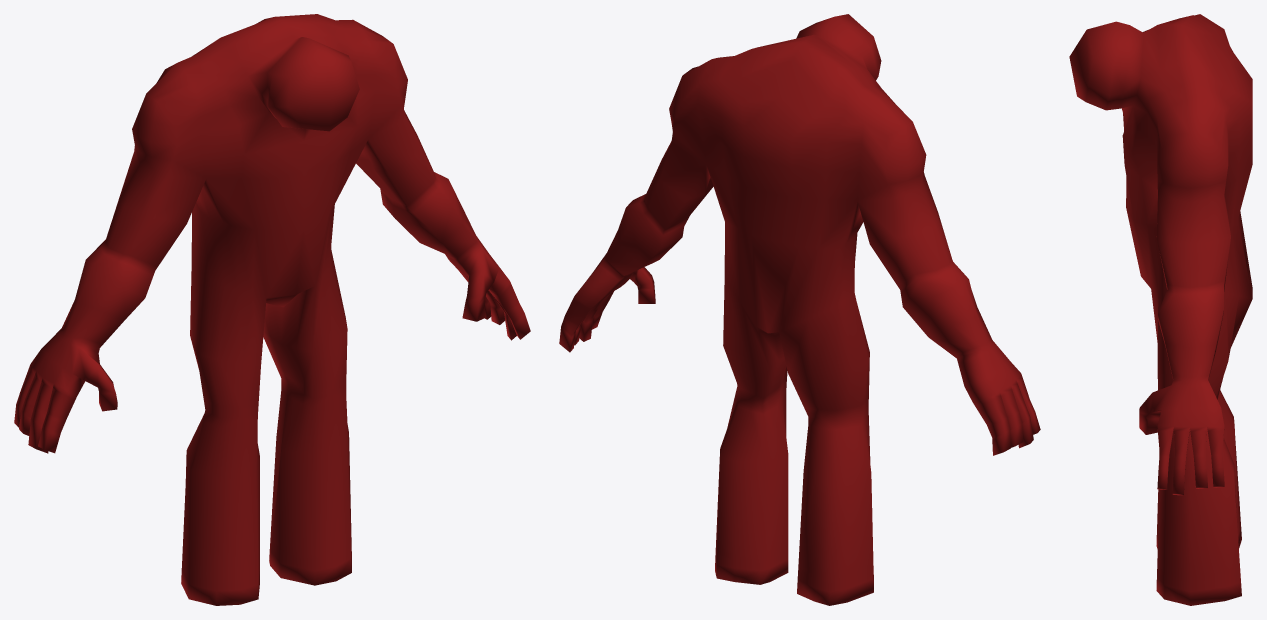
Rendered from Giant_BaseMesh.obj.
3 renders of one model, left to right at view 1: azimuth 30°, elevation 25°; view 2: azimuth 150°, elevation 25°; view 3: azimuth 270°, elevation 25°, orthographic. The views are drawn at different scales.
Visible parts, largest first — view 1: Giant_BaseMesh_Giant; view 2: Giant_BaseMesh_Giant; view 3: Giant_BaseMesh_Giant.
Boxes of the visible parts, bbox=[...] form: Giant_BaseMesh_Giant: bbox=[14, 14, 530, 605]; Giant_BaseMesh_Giant: bbox=[559, 14, 1040, 605]; Giant_BaseMesh_Giant: bbox=[1069, 14, 1252, 605].
Size of the model in its own units: 539 by 599 by 182.
